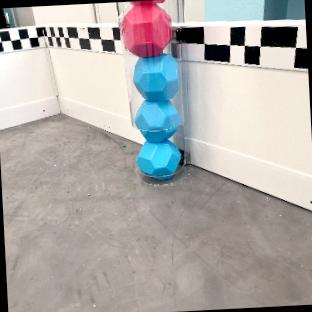V5_BLUE: (129, 52, 178, 99), (135, 100, 181, 140), (137, 140, 180, 178)
V5_RED: (120, 0, 171, 56)
